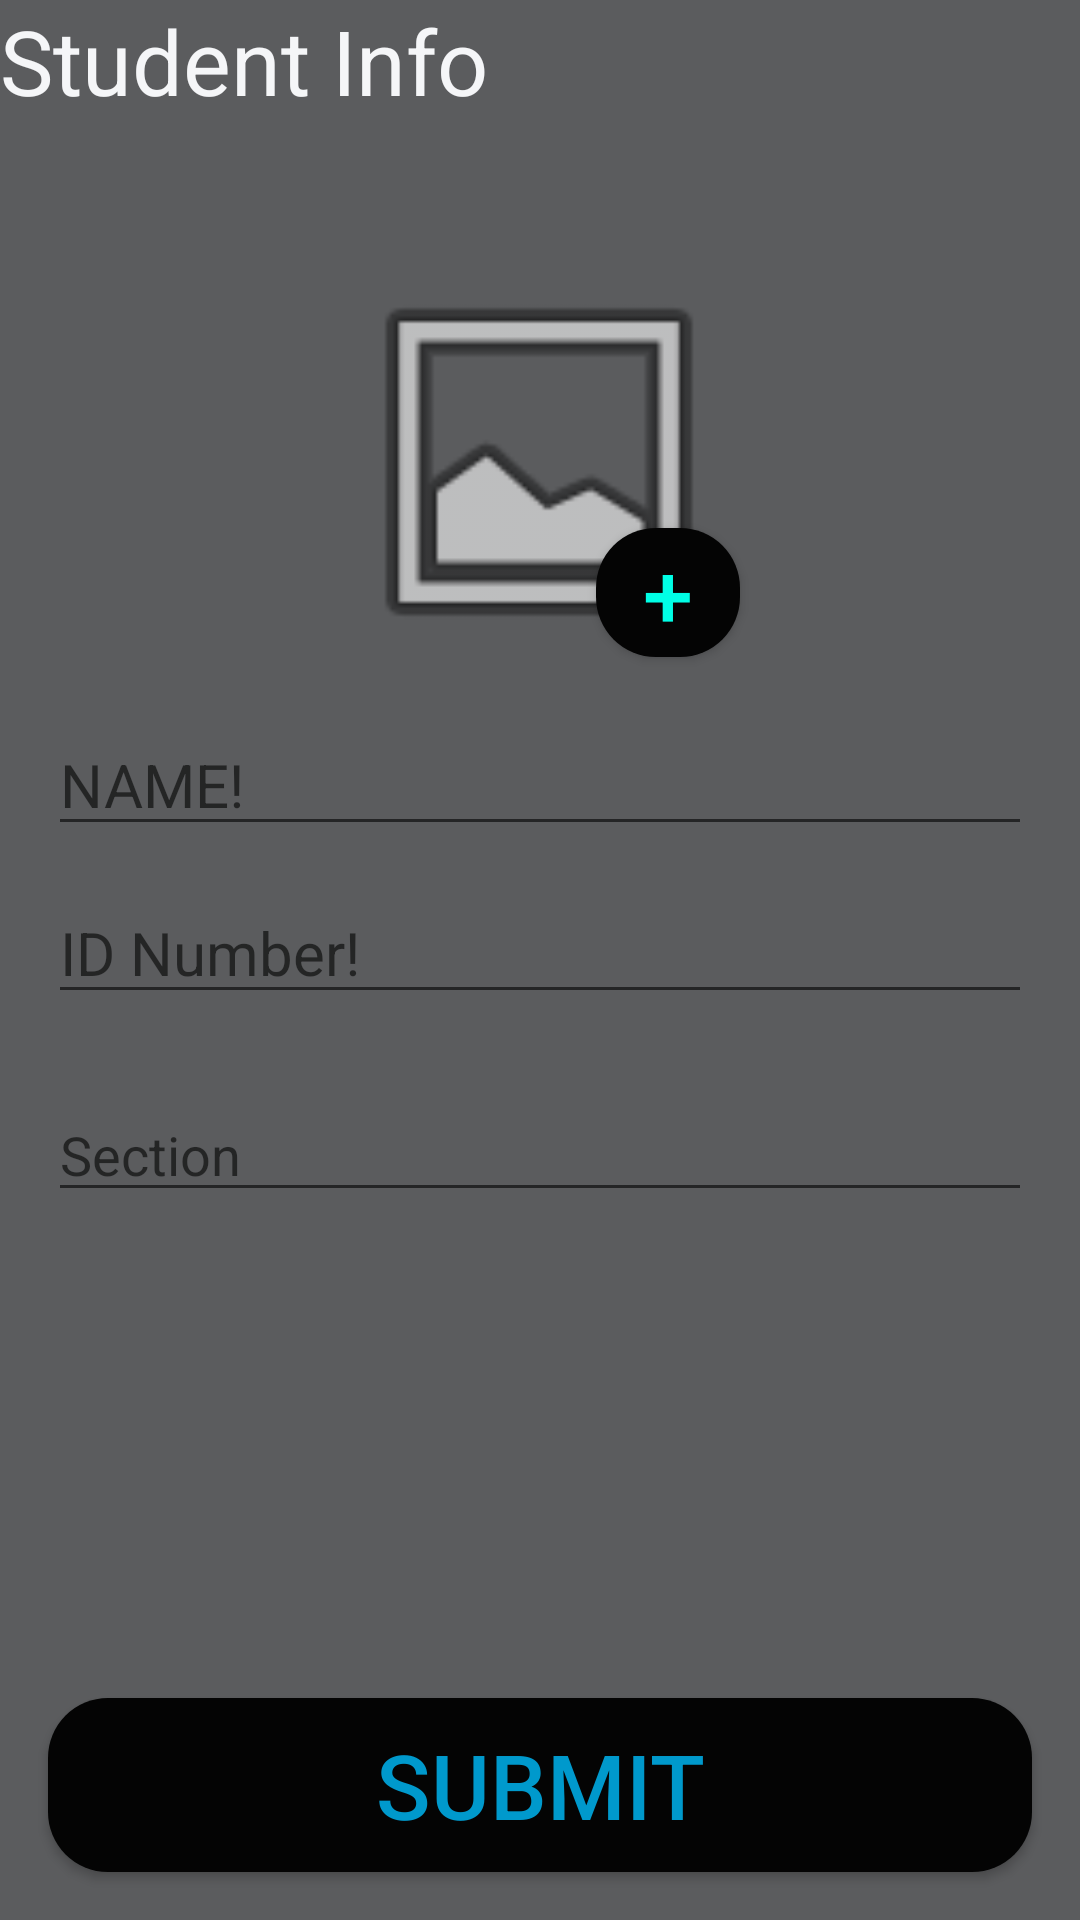

Named icons in this screenshot (1080 x 1920) and their bounding boxes, (x1, y1, x2, y2):
gallery: (387, 310, 740, 657)
